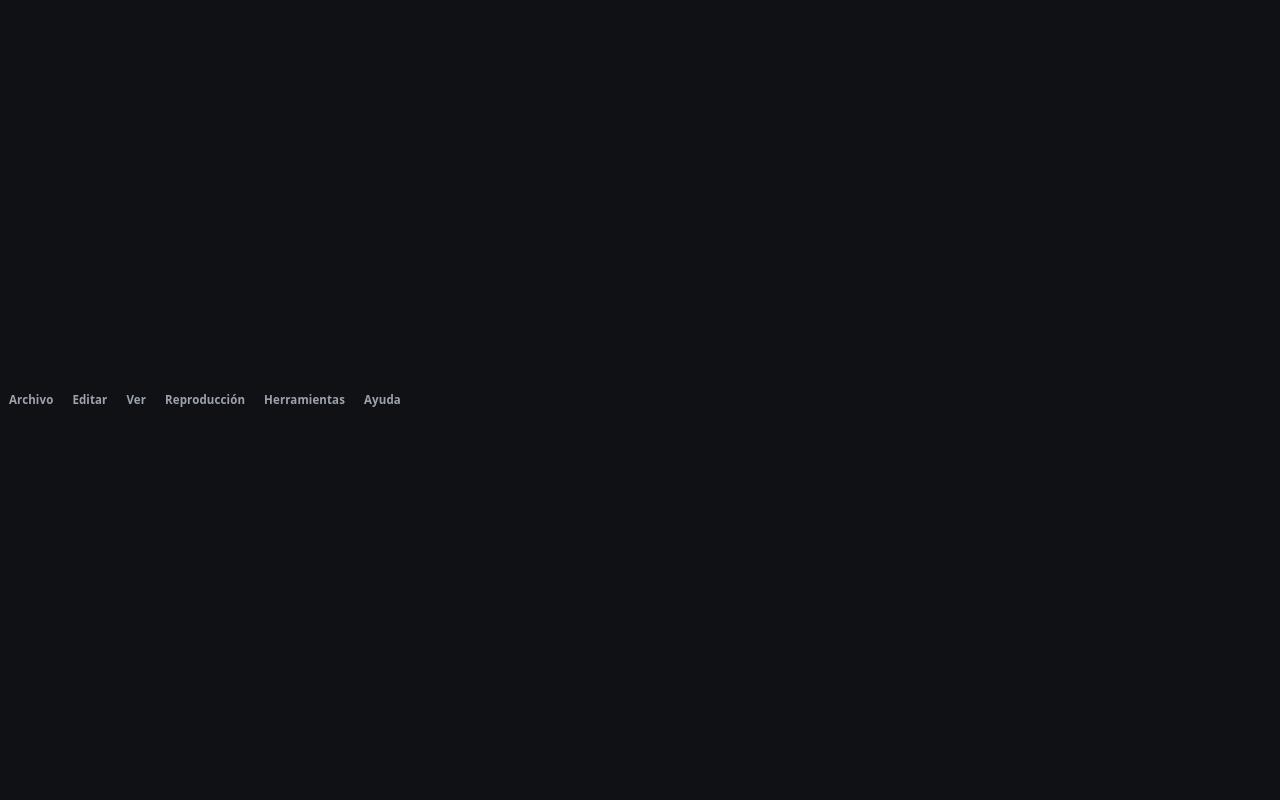
MenuBar · trampa de foco en los modales › Atajos de teclado: enfoca el botón cerrar, el Tab no abandona el diálogo y Escape cierra
Click the button "Ayuda".
click(382, 400)  # box [355,385,410,415]
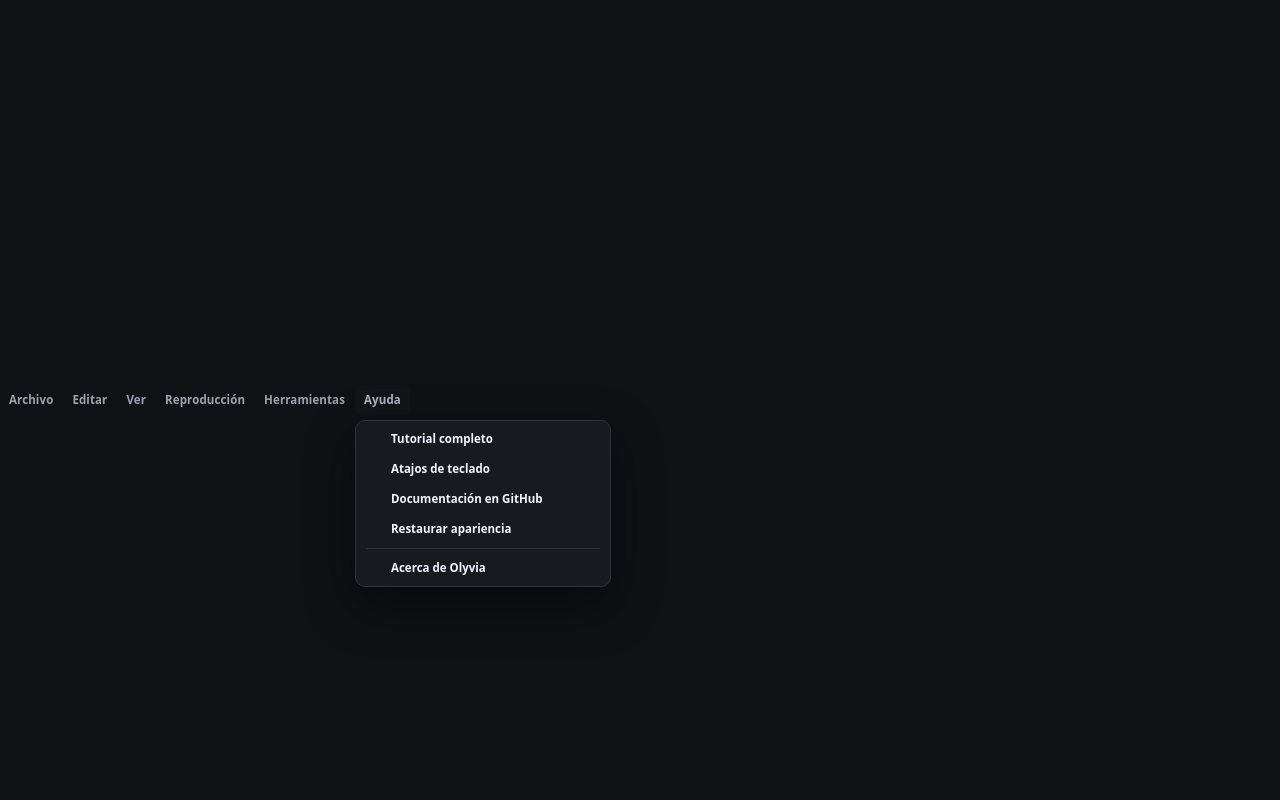
Click the menu item "Atajos de teclado".
click(483, 469)  # box [359,454,607,484]
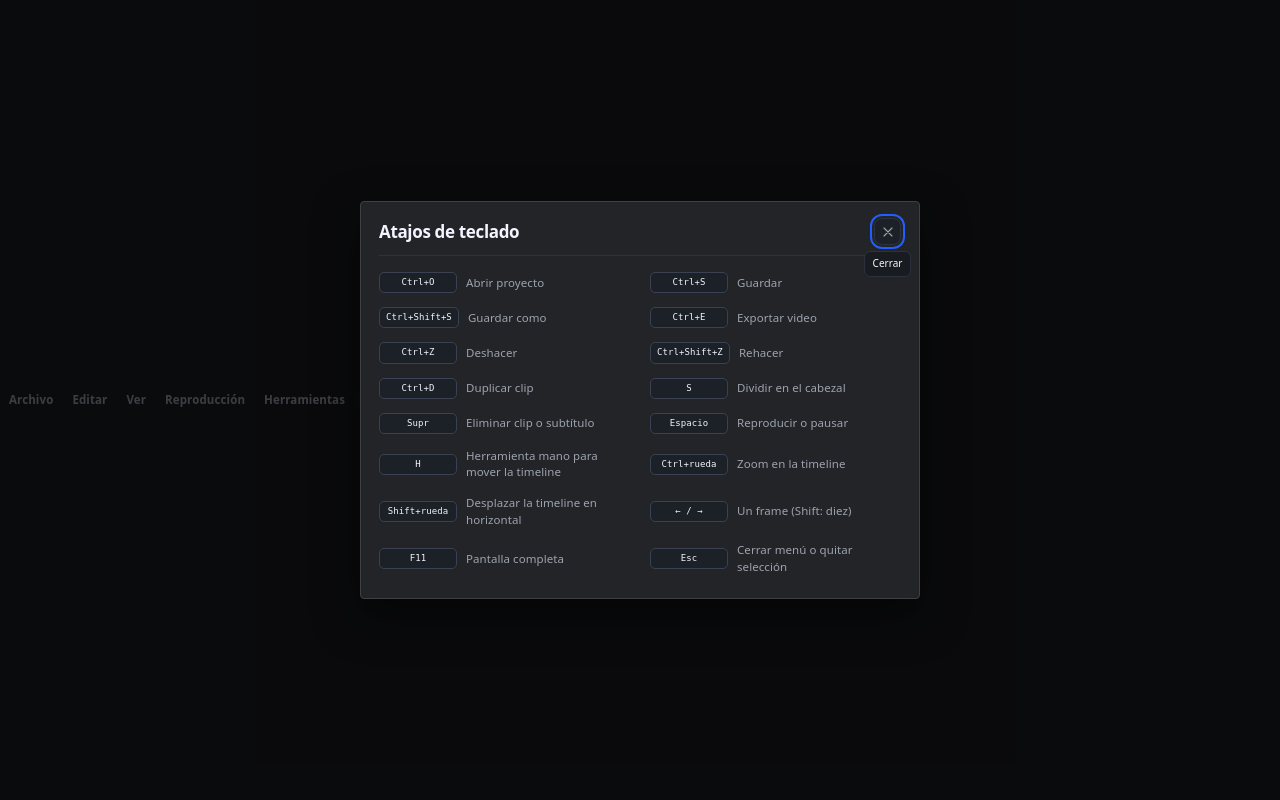
Press Tab in the button named "Cerrar", box [874,218,901,245]
Press Escape
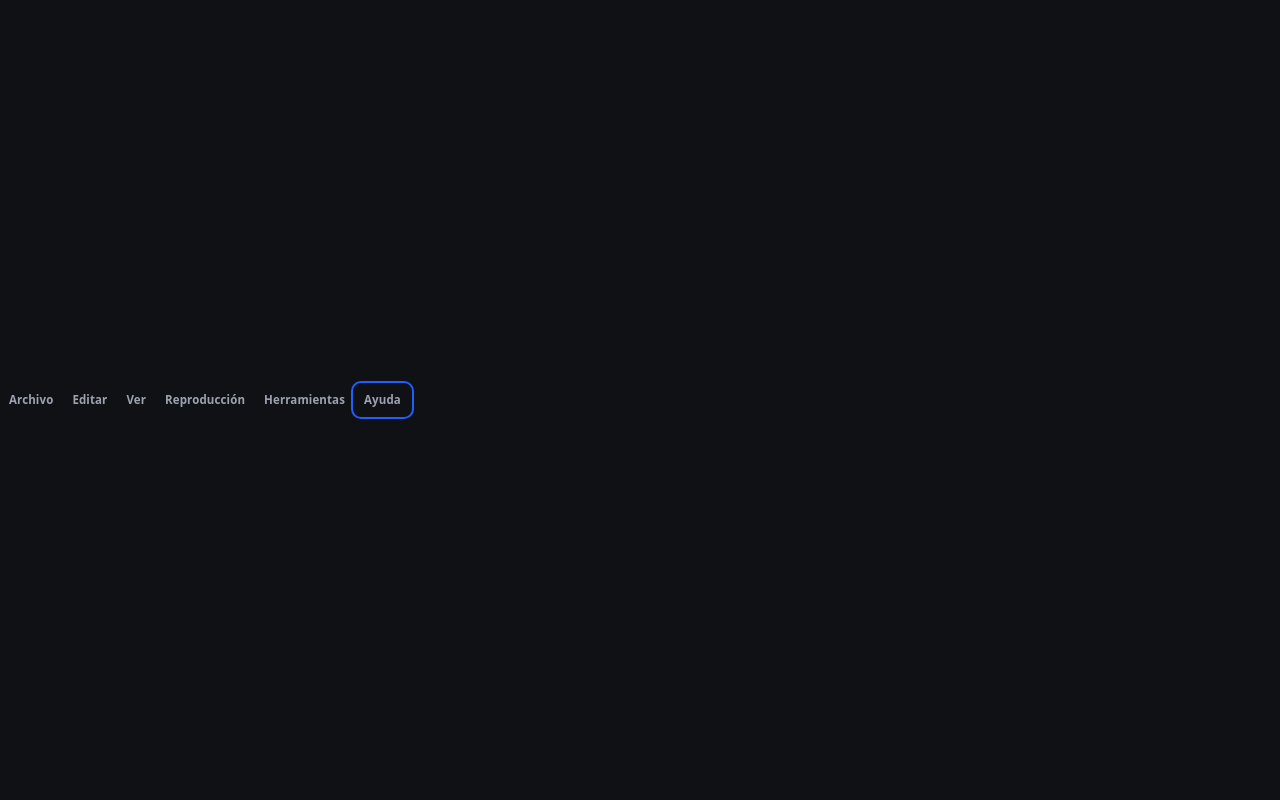
Expected: the dialog is gone
